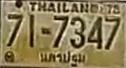1: (28, 14, 34, 46)
3: (69, 16, 85, 47)
4: (86, 16, 102, 48)
7: (6, 13, 22, 46), (104, 16, 120, 49), (53, 15, 68, 47)
NPT: (38, 49, 87, 66)
